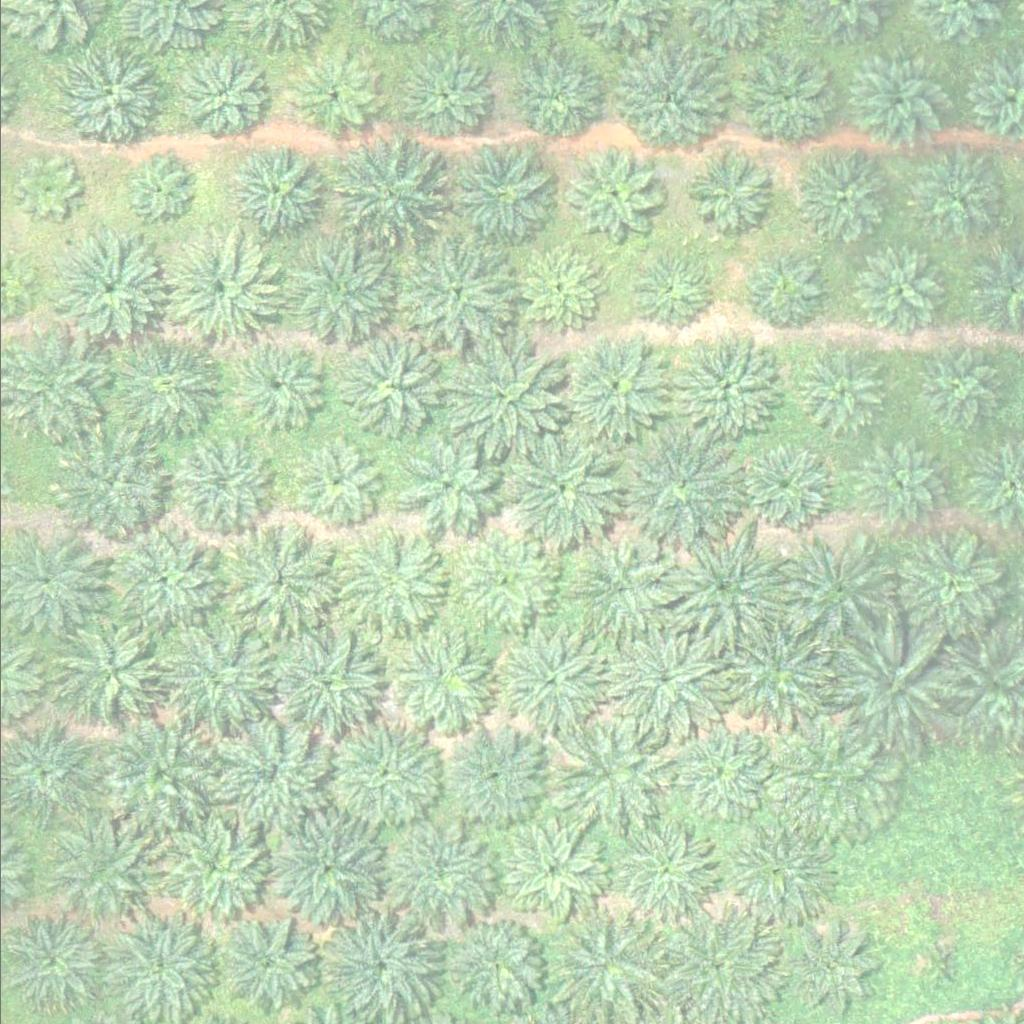Kelapa_Sawit: (774, 721, 888, 834), (835, 633, 949, 746), (612, 44, 726, 157), (442, 141, 556, 254), (329, 133, 443, 246), (221, 139, 334, 252), (159, 231, 272, 344), (670, 330, 783, 443), (554, 331, 667, 444), (621, 434, 734, 547), (503, 432, 616, 545), (331, 528, 444, 641), (222, 520, 335, 633), (721, 613, 834, 726), (659, 716, 772, 829), (552, 720, 665, 833), (438, 717, 551, 830), (384, 820, 497, 933), (274, 812, 387, 925), (153, 814, 266, 927), (154, 625, 267, 738), (55, 616, 168, 729), (103, 525, 216, 638), (48, 233, 161, 346), (397, 239, 511, 351), (285, 236, 399, 348), (217, 333, 331, 445), (726, 811, 840, 923), (611, 815, 725, 927), (659, 910, 773, 1022), (551, 907, 665, 1019), (48, 427, 162, 539), (105, 330, 219, 442), (892, 529, 1005, 641), (778, 536, 891, 648), (843, 46, 956, 158), (448, 340, 561, 452), (335, 334, 448, 446), (663, 531, 776, 643), (561, 533, 674, 645), (602, 622, 715, 734), (491, 623, 604, 735), (267, 628, 380, 740), (324, 716, 437, 828), (212, 717, 325, 829), (331, 908, 444, 1020), (42, 816, 155, 928), (102, 719, 215, 831), (49, 42, 162, 154), (906, 147, 1007, 247), (793, 148, 894, 248), (398, 433, 499, 533), (452, 529, 553, 629), (392, 629, 493, 729), (505, 819, 606, 919), (214, 914, 315, 1014), (5, 912, 106, 1012), (507, 46, 607, 146), (393, 46, 493, 146), (561, 143, 661, 243), (170, 436, 270, 536), (449, 915, 549, 1015), (855, 439, 943, 527), (738, 444, 826, 532), (913, 341, 1001, 429), (173, 51, 261, 139), (682, 150, 770, 238), (628, 248, 716, 336), (514, 245, 602, 333), (795, 348, 884, 435), (855, 248, 944, 335), (743, 56, 831, 143), (289, 51, 377, 138), (740, 246, 828, 333), (292, 442, 380, 529), (125, 162, 188, 225), (14, 157, 77, 220), (921, 944, 959, 981)
